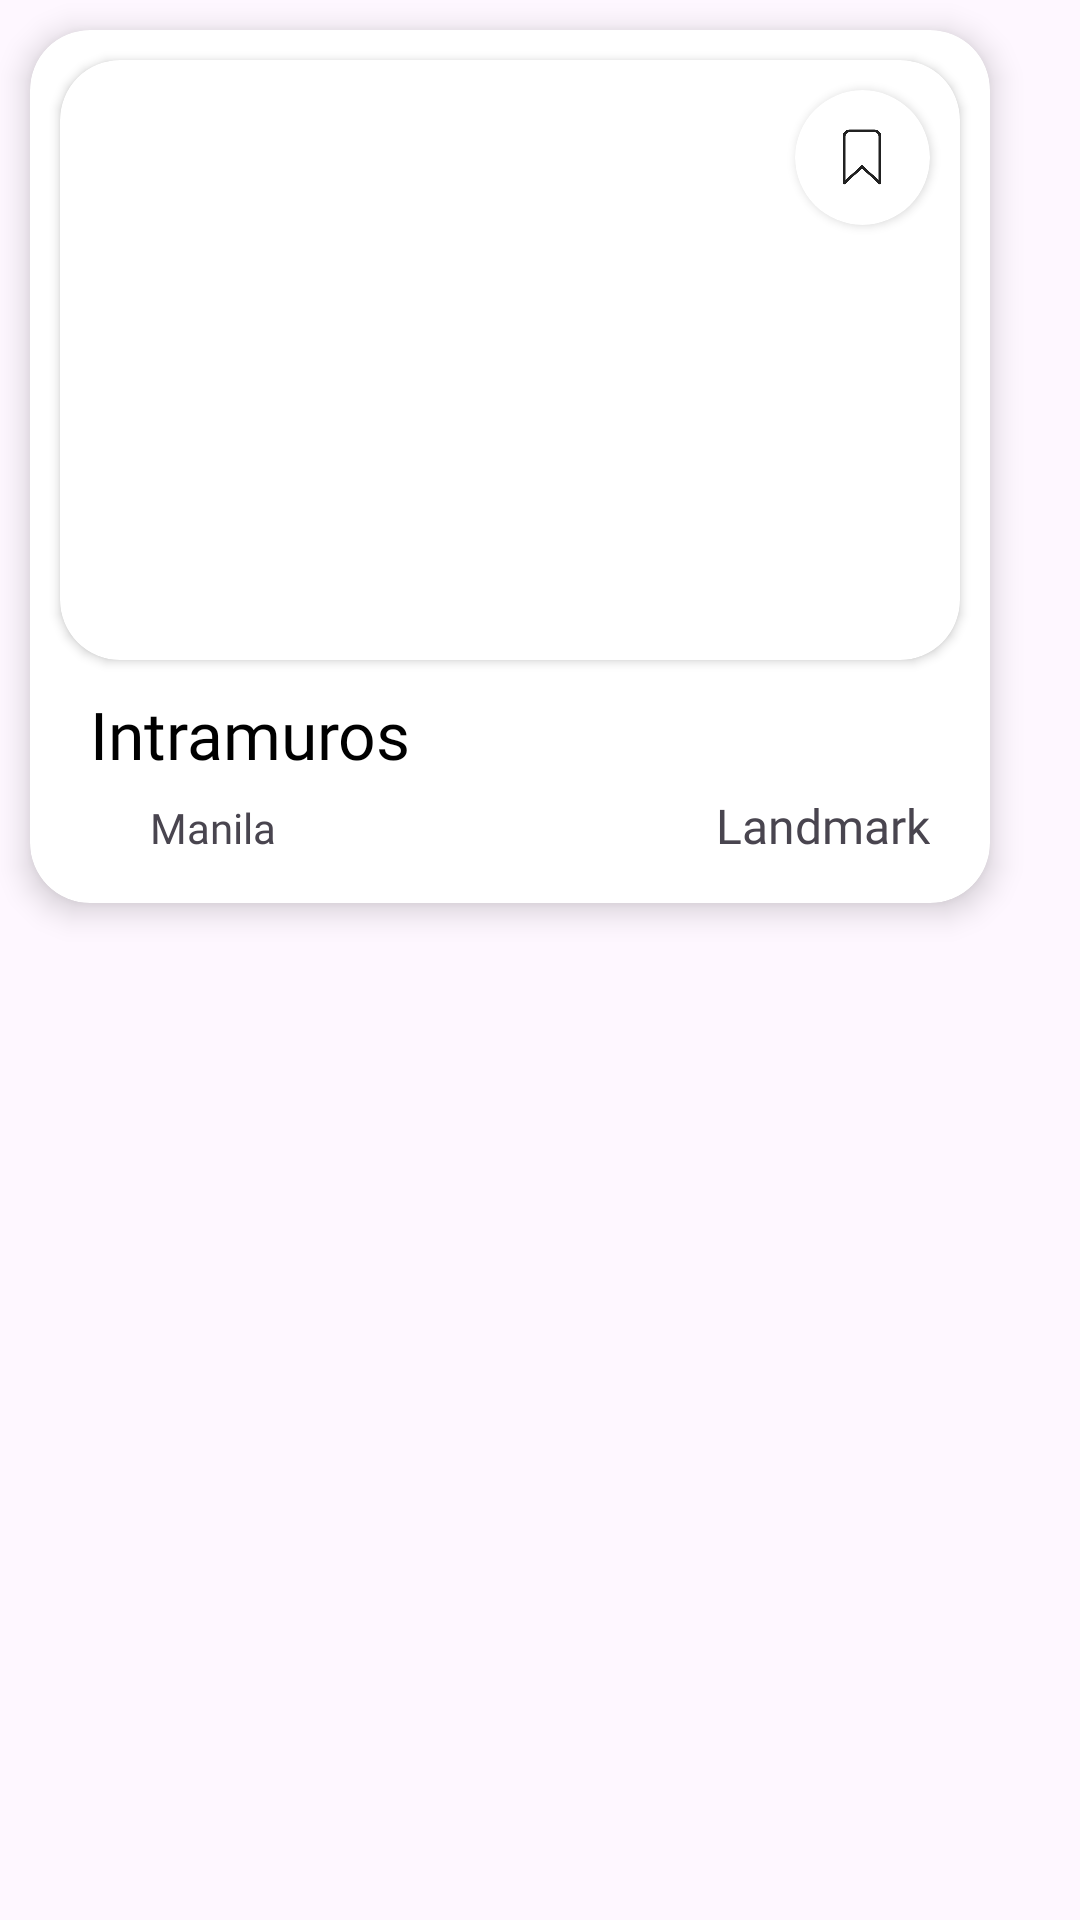

Icons on this 1080*1920 Android screen, each with its box as (x1, y1, x2, y2):
homemenu bookmark false: (843, 129, 881, 185)
